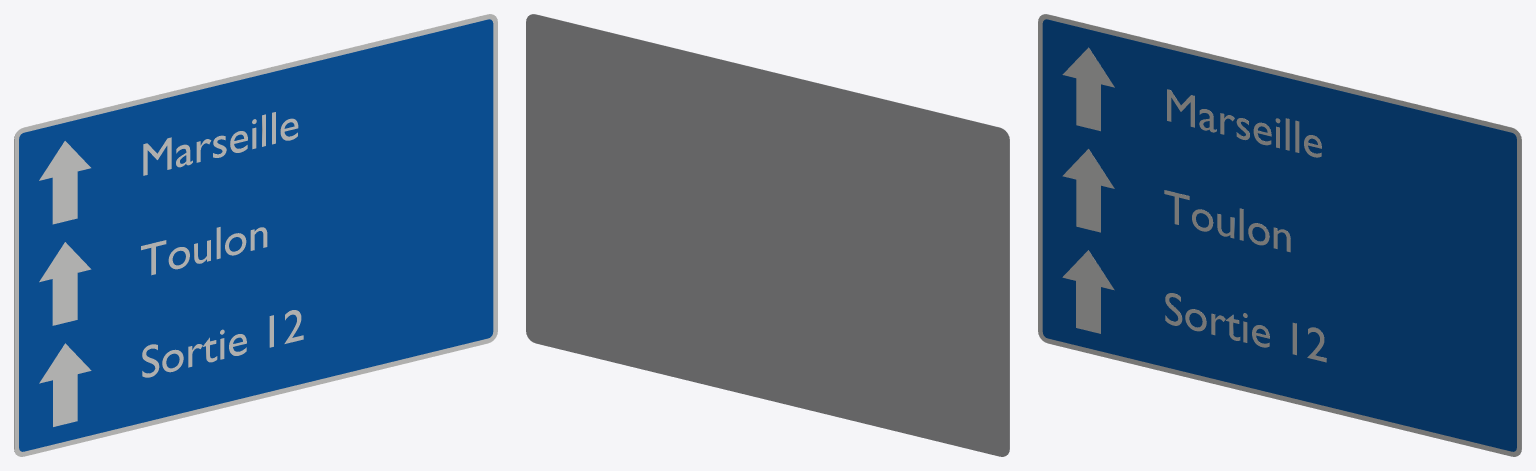
3 views of the same model, side by side, from view 1: azimuth 30°, elevation 25°; view 2: azimuth 150°, elevation 25°; view 3: azimuth 330°, elevation 25° (orthographic).
Parts seen in each view (by area): view 1: D52b_fond01, D52b_cadre00, D52b_fl04, D52b_fl02, D52b_fl06, D52b_txt03, D52b_txt07, D52b_txt05, D52b_dos; view 2: D52b_dos; view 3: D52b_fond01, D52b_cadre00, D52b_fl02, D52b_fl04, D52b_fl06, D52b_txt03, D52b_txt07, D52b_txt05, D52b_dos.
Part boxes in pixels (left/top/right/bottom): D52b_fond01: left=19, top=19, right=493, bottom=451; D52b_cadre00: left=14, top=14, right=497, bottom=456; D52b_fl04: left=39, top=242, right=91, bottom=325; D52b_fl02: left=39, top=141, right=90, bottom=224; D52b_fl06: left=39, top=343, right=91, bottom=426; D52b_txt03: left=143, top=112, right=298, bottom=175; D52b_txt07: left=142, top=310, right=303, bottom=377; D52b_txt05: left=141, top=227, right=267, bottom=275; D52b_dos: left=14, top=14, right=490, bottom=451; D52b_dos: left=526, top=14, right=1009, bottom=456; D52b_fond01: left=1042, top=19, right=1516, bottom=451; D52b_cadre00: left=1038, top=14, right=1521, bottom=456; D52b_fl02: left=1062, top=47, right=1114, bottom=131; D52b_fl04: left=1062, top=149, right=1114, bottom=232; D52b_fl06: left=1062, top=250, right=1114, bottom=333; D52b_txt03: left=1167, top=89, right=1321, bottom=157; D52b_txt07: left=1165, top=293, right=1326, bottom=362; D52b_txt05: left=1164, top=190, right=1290, bottom=252; D52b_dos: left=1045, top=14, right=1521, bottom=451.
Size of the model in its own units: 2 by 1.3 by 0.0045.
